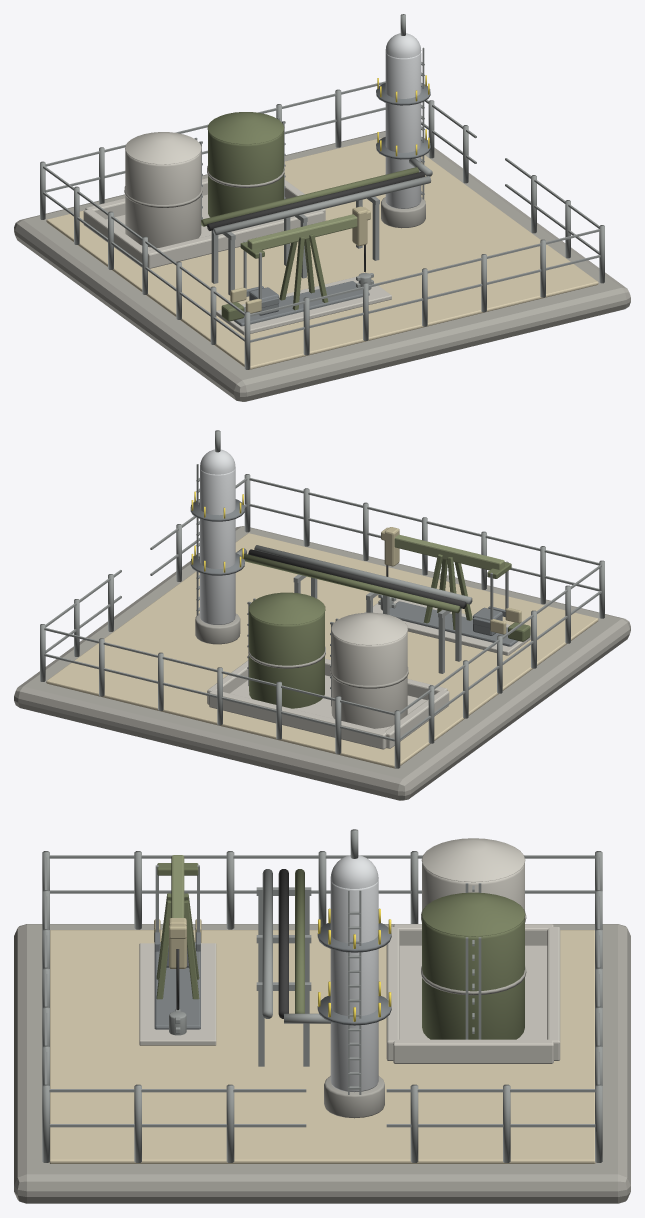
File: oilwell_6.glb
3 renders of one model, top to bottom at view 1: azimuth 30°, elevation 25°; view 2: azimuth 150°, elevation 25°; view 3: azimuth 270°, elevation 25°, orthographic. The views are drawn at different scales.
Visible parts, largest first — view 1: Cube.001, Cube, Cylinder.002, Cylinder.004, Cylinder.010, Cube.024, Cone, Cone.001, Cube.002, Cylinder.006, Cube.008, Cube.003 (+14 smaller); view 2: Cube.001, Cube, Cylinder.004, Cylinder.002, Cylinder.010, Cube.023, Cone, Cone.001, Cylinder.008, Cube.008, Cube.003, Cylinder.006 (+17 smaller); view 3: Cube.001, Cube, Cylinder.004, Cylinder.010, Cube.022, Cube.025, Cube.002, Cone.001, Cone, Cube.003, Cylinder.002, Cube.023 (+32 smaller).
Boxes of the visible parts, left/top/right/bottom form: Cube.001: left=46, top=137, right=598, bottom=369; Cube: left=14, top=131, right=630, bottom=401; Cylinder.002: left=125, top=151, right=201, bottom=247; Cylinder.004: left=208, top=131, right=283, bottom=217; Cylinder.010: left=385, top=52, right=421, bottom=208; Cube.024: left=148, top=210, right=323, bottom=268; Cone: left=125, top=132, right=201, bottom=164; Cone.001: left=207, top=112, right=284, bottom=144; Cube.002: left=216, top=277, right=391, bottom=335; Cylinder.006: left=213, top=176, right=431, bottom=235; Cube.008: left=247, top=214, right=357, bottom=249; Cube.003: left=234, top=281, right=369, bottom=326; Cube.001: left=46, top=533, right=598, bottom=768; Cube: left=14, top=526, right=630, bottom=800; Cylinder.004: left=249, top=611, right=324, bottom=708; Cylinder.002: left=331, top=631, right=407, bottom=728; Cylinder.010: left=200, top=468, right=235, bottom=624; Cube.023: left=209, top=690, right=386, bottom=749; Cone: left=331, top=612, right=407, bottom=645; Cone.001: left=249, top=592, right=325, bottom=624; Cylinder.008: left=244, top=554, right=460, bottom=613; Cube.008: left=394, top=534, right=504, bottom=570; Cube.003: left=389, top=601, right=518, bottom=646; Cylinder.006: left=254, top=545, right=472, bottom=604; Cube.001: left=49, top=930, right=595, bottom=1163; Cube: left=14, top=924, right=630, bottom=1203; Cylinder.004: left=422, top=917, right=524, bottom=1039; Cylinder.010: left=330, top=880, right=378, bottom=1092; Cube.022: left=399, top=945, right=547, bottom=1039; Cube.025: left=393, top=1039, right=553, bottom=1063; Cube.002: left=139, top=943, right=216, bottom=1045; Cone.001: left=421, top=892, right=525, bottom=936; Cone: left=421, top=838, right=525, bottom=882; Cube.003: left=154, top=942, right=200, bottom=1029; Cylinder.002: left=422, top=863, right=524, bottom=912; Cube.023: left=547, top=927, right=560, bottom=1060.
Size of the model in its own units: 1.92 by 1.06 by 1.92.
